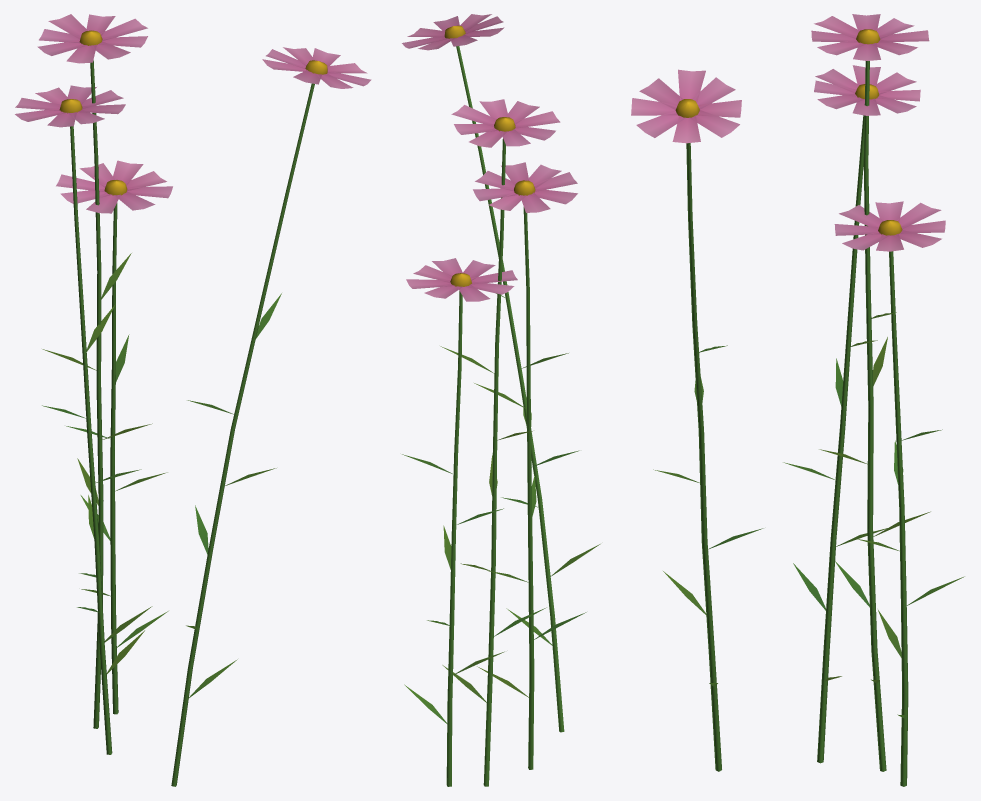
The model's file is flower-cosmos-b.lod0.glb.
3 views of the same model, side by side, from view 1: azimuth 30°, elevation 25°; view 2: azimuth 150°, elevation 25°; view 3: azimuth 270°, elevation 25° (orthographic). The views are drawn at different scales.
Parts seen in each view (by area): view 1: flower-cosmos-b.lod0; view 2: flower-cosmos-b.lod0; view 3: flower-cosmos-b.lod0.
Part boxes in pixels (x1,y1,x2,y2): flower-cosmos-b.lod0: [15, 14, 371, 786]; flower-cosmos-b.lod0: [402, 14, 600, 786]; flower-cosmos-b.lod0: [631, 14, 964, 786].
Size of the model in its own units: 0.2583 by 0.6907 by 0.2835.
